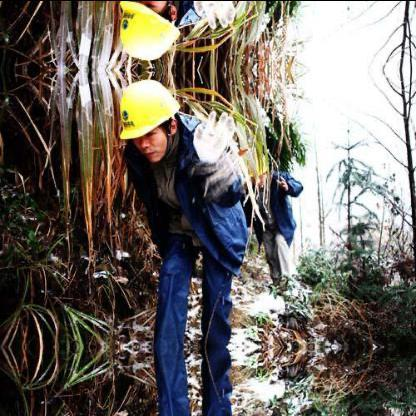Helmet: (109, 68, 187, 167), (108, 0, 188, 68), (247, 152, 272, 186)
